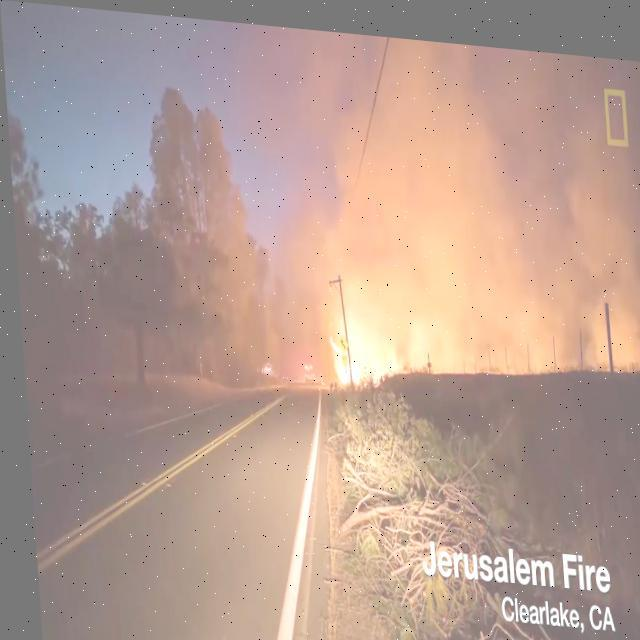Fire: (322, 308, 396, 382)
